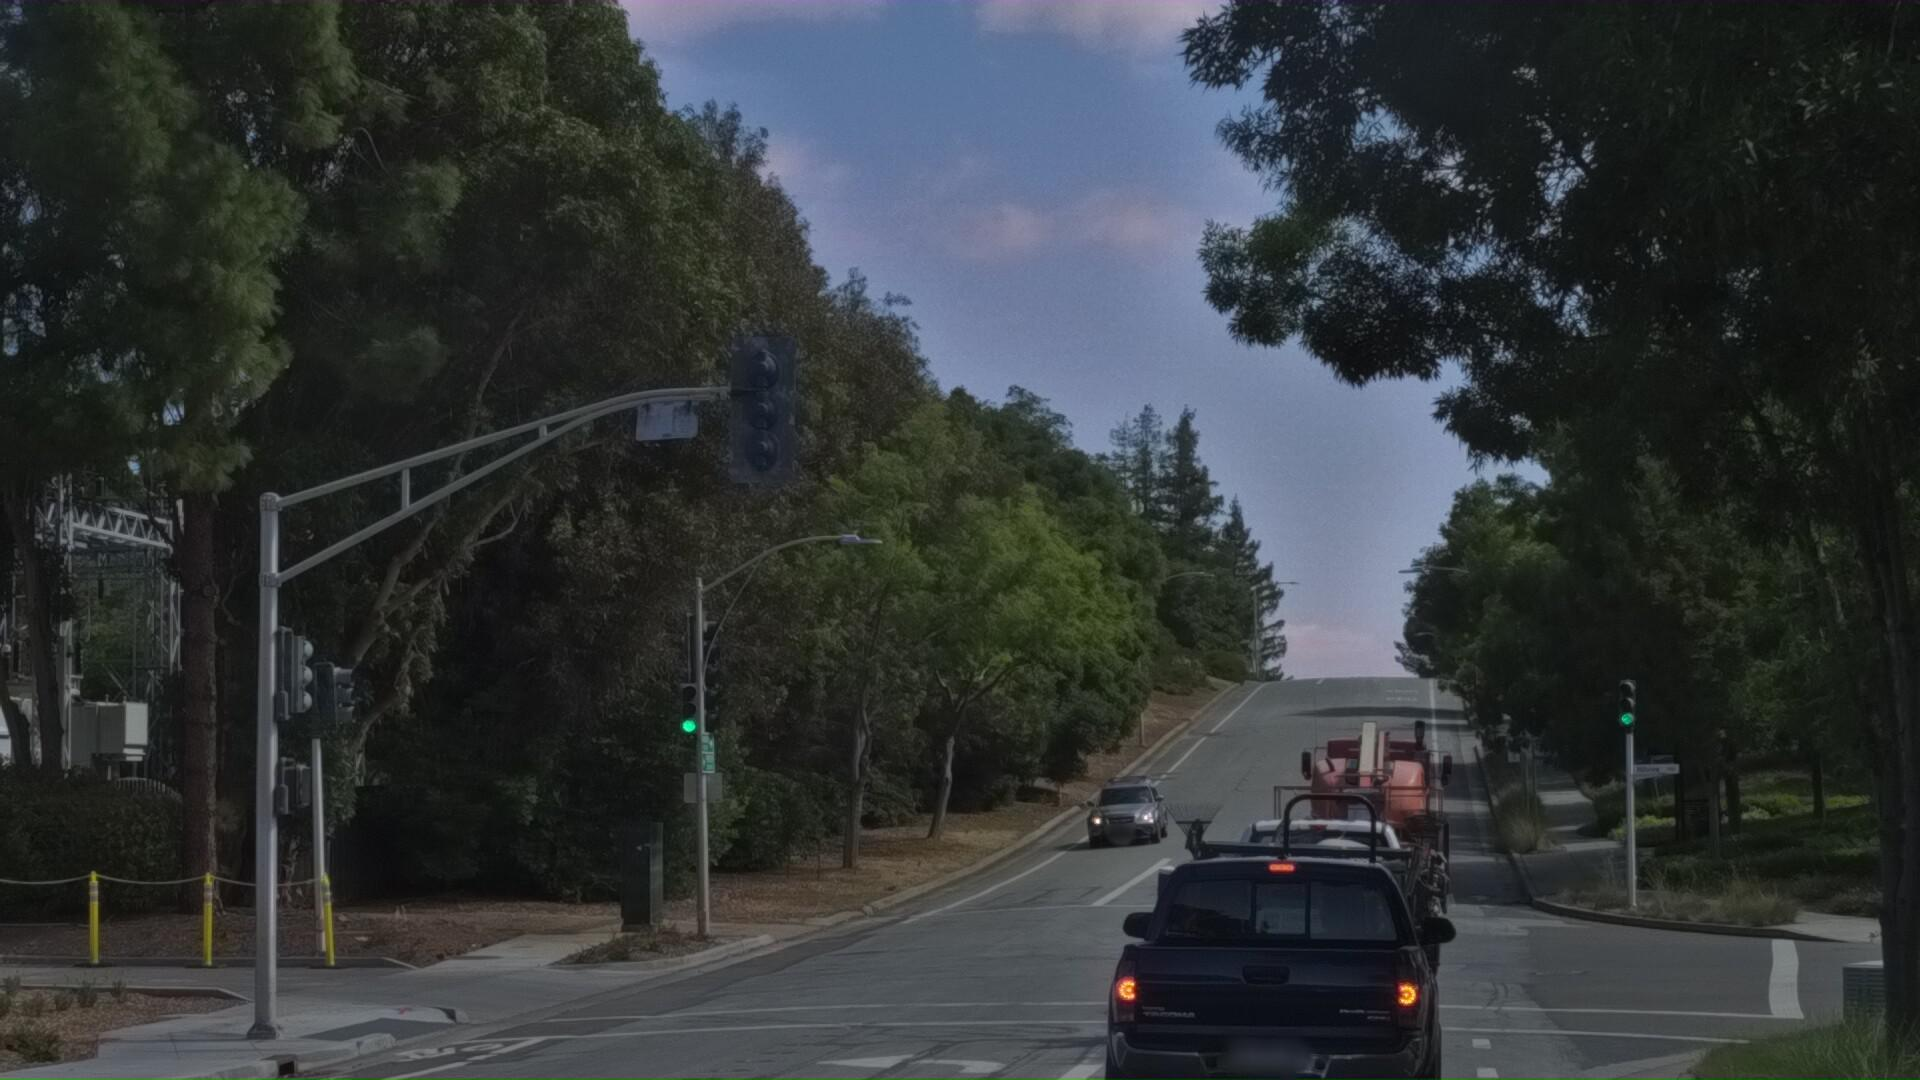car: (1134, 822, 1451, 1080), (1080, 884, 1469, 1080)
other_vehicle: (1300, 808, 1451, 956)
truck: (1265, 733, 1477, 1025)
